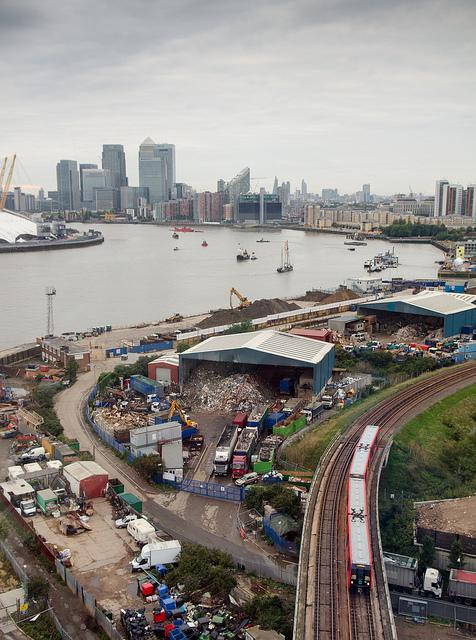Train: (349, 424, 381, 595)
